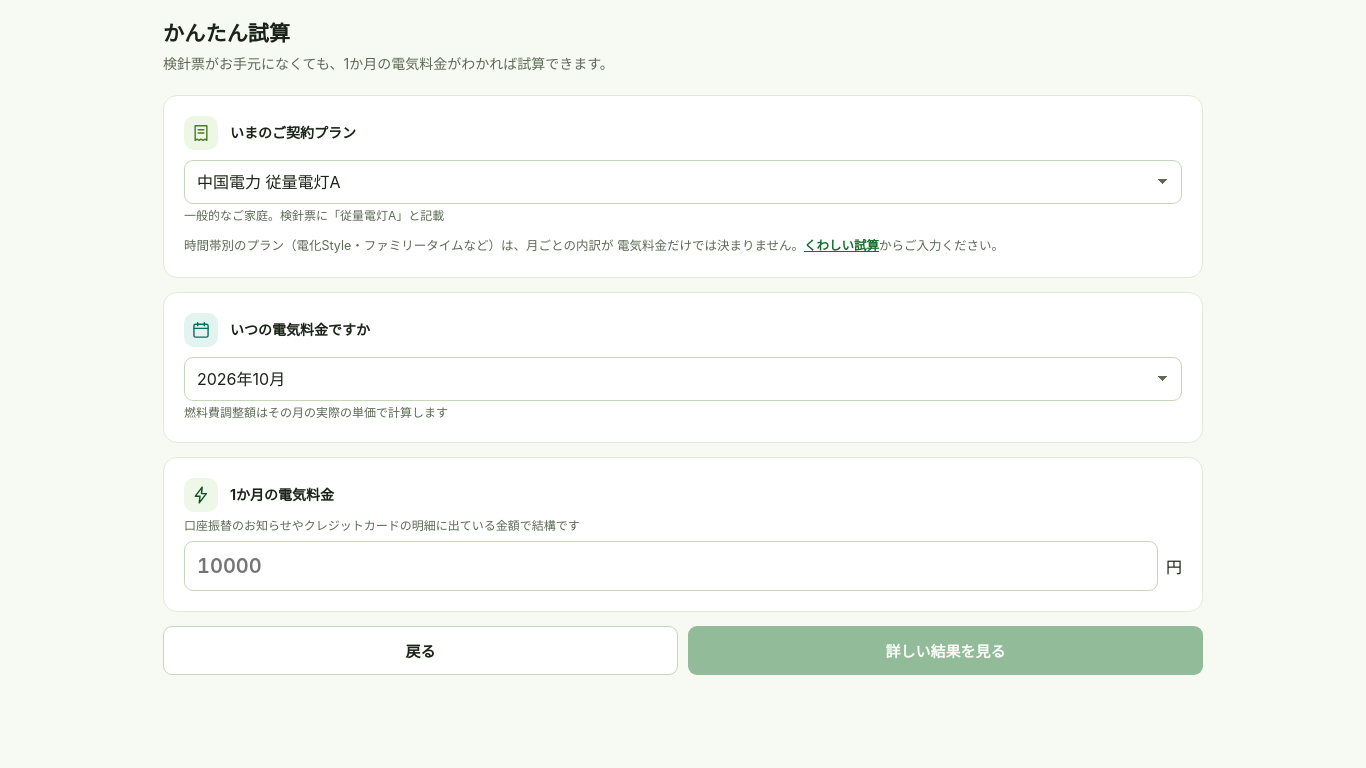
Test: かんたん試算 › 下限を下回る金額は理由を出して止める
The width and height of the screenshot is (1366, 768).
In the number field labelled "1か月の電気料金": [671, 566] box [184,541,1158,591], type "10"
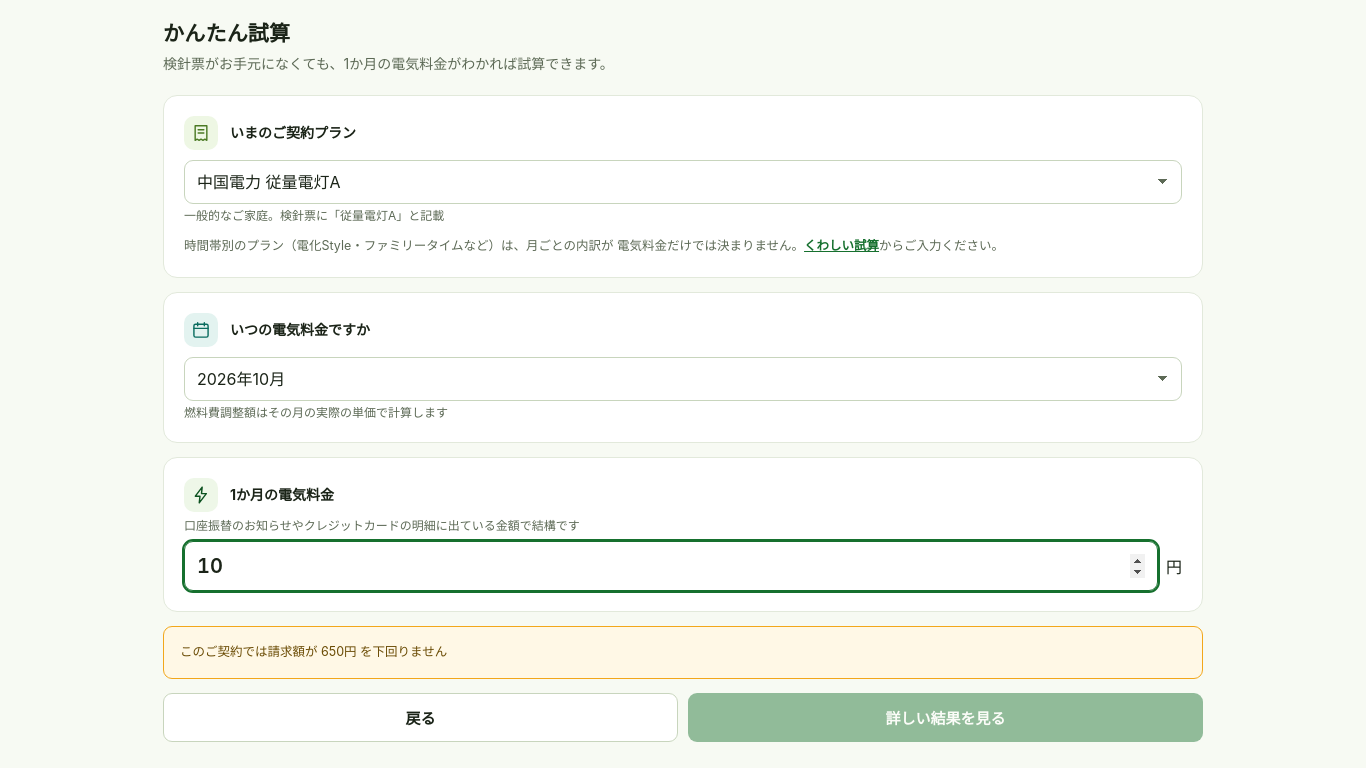
expect the button "詳しい結果を見る" is disabled: met, box [688,693,1203,742]
expect the text "このご契約では請求額が 650円 を下回りません" is shown: met, box [163,626,1203,679]
